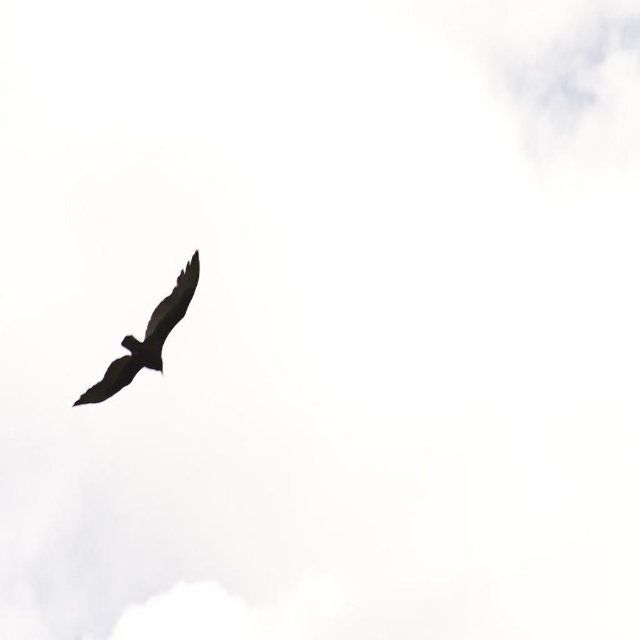Eagle: (71, 249, 201, 409)
